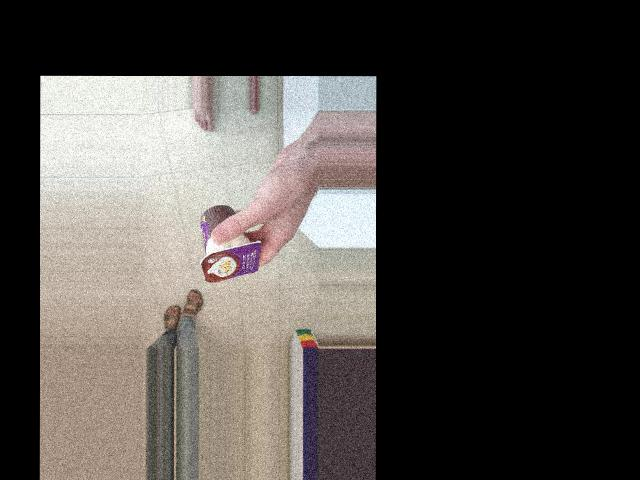milky: (165, 226, 260, 285)
